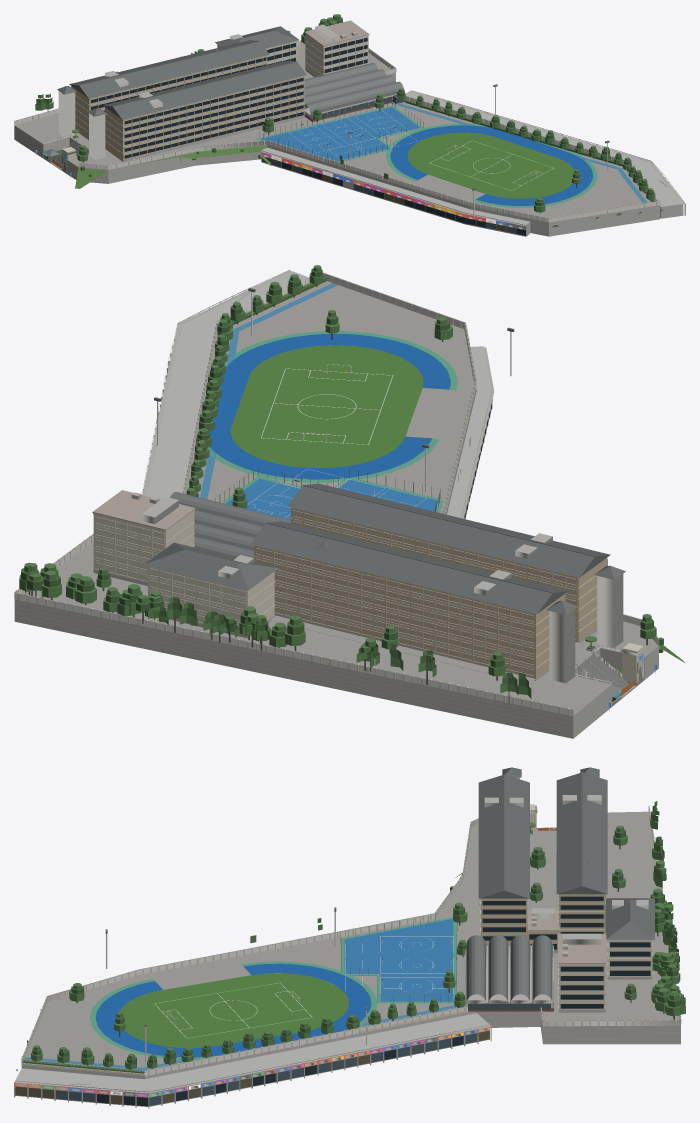
3 renders of one model, top to bottom at view 1: azimuth 30°, elevation 25°; view 2: azimuth 150°, elevation 25°; view 3: azimuth 270°, elevation 25°, orthographic. The views are drawn at different scales.
Parts seen in each view (by area): view 1: No47_campus; view 2: No47_campus; view 3: No47_campus.
Boxes of the visible parts, box(x1,y1,x2,y2) form: No47_campus: box(14, 14, 685, 236); No47_campus: box(14, 265, 684, 738); No47_campus: box(14, 767, 685, 1108).
Bounding box in the file's own units: 257 × 35.07 × 259.
45 materials, 20 textured.
